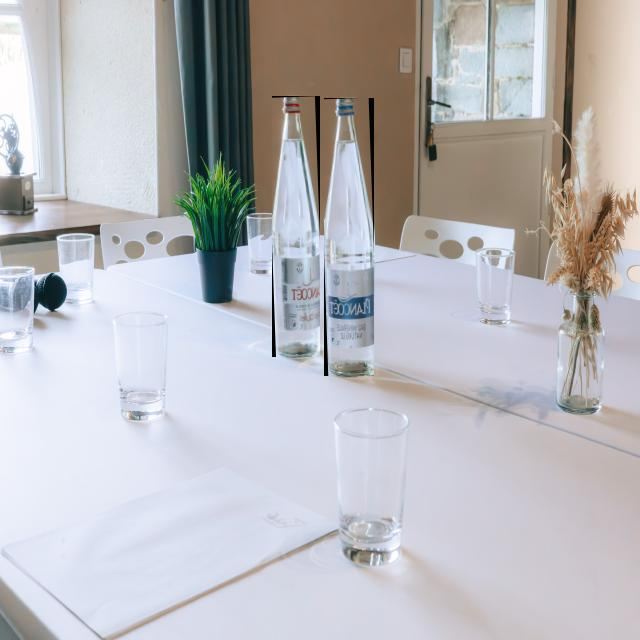Bottle: (323, 98, 373, 376), (271, 96, 318, 357)
